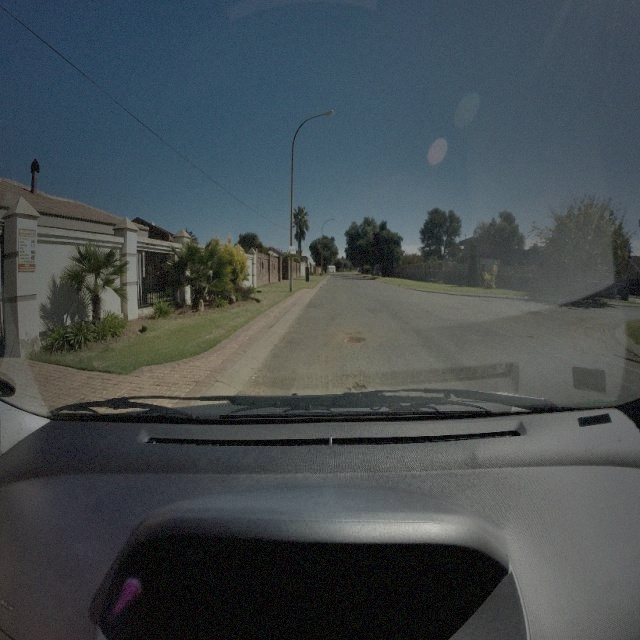pothole: (342, 333, 366, 343), (350, 382, 368, 390), (525, 334, 533, 341)
